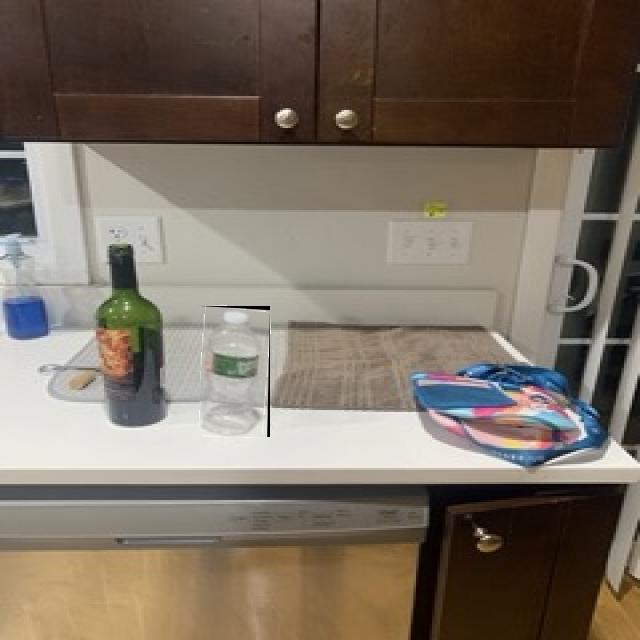water_bottle: (200, 306, 270, 437)
